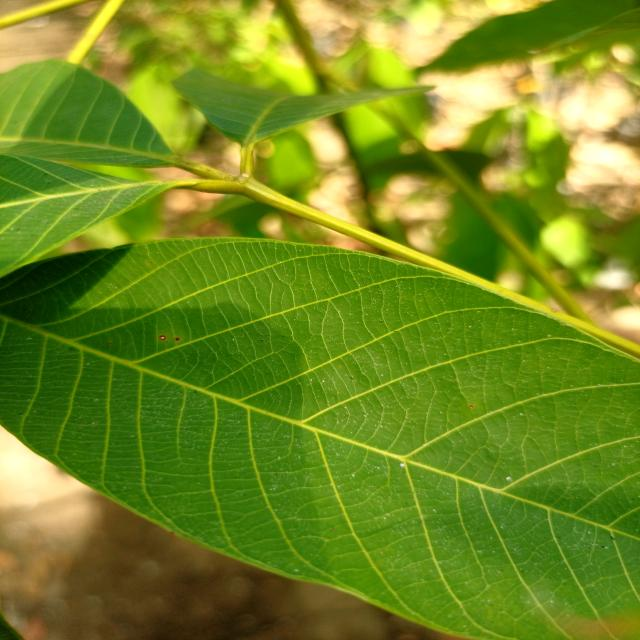Colletotrichum: (159, 335, 166, 340), (175, 337, 180, 341)
